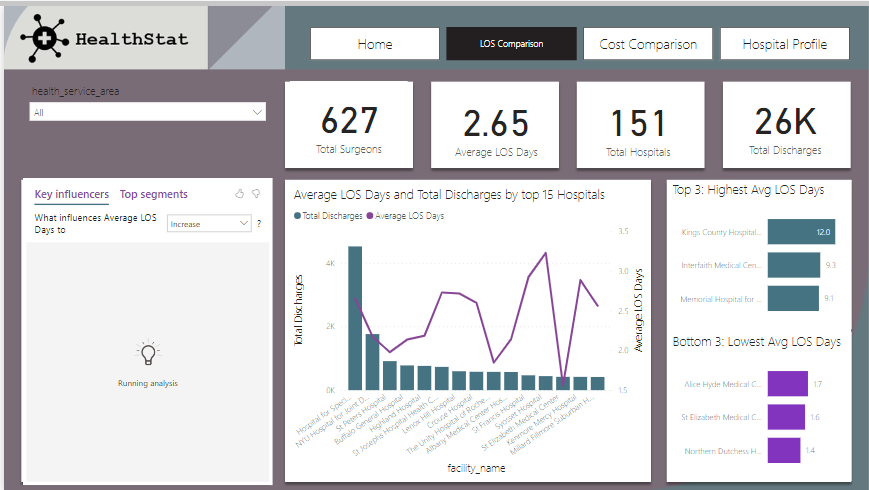

This screenshot's page, from the dashboard's own definition file:
{"tool":"powerbi","page":{"name":"LOS Comparison","canvas":[1280,720],"ordinal":1},"visuals":[{"type":"card","fields":{"Values":["_Measures.Total Surgeons"]},"box":[422.6,111.1,174.3,123.5],"z":0},{"type":"lineStackedColumnComboChart","title":"Average LOS Days and Total Discharges by top 15 Hospitals","fields":{"Y":["_Measures.Total Discharges"],"Category":["hospital_discharges.facility_name"],"Y2":["_Measures.Average LOS Days"]},"box":[422.6,264.8,532.4,433.6],"z":1000},{"type":"slicer","fields":{"Values":["hospital_discharges.health_service_area"]},"box":[27.4,109.8,369.1,130.4],"z":2000},{"type":"keyDriversVisual","fields":{"ExplainBy":["hospital_discharges.apr_risk_of_mortality","hospital_discharges.apr_severity_of_illness_description","hospital_discharges.ccs_diagnosis_description","hospital_discharges.patient_disposition","hospital_discharges.gender","hospital_discharges.Age Bins","surgical_program_size_summary.Surgical Program Size","hospital_discharges.health_service_area"],"Target":["_Measures.Average LOS Days"]},"box":[27.4,253.9,369.1,454.2],"z":3000},{"type":"clusteredBarChart","title":"Top 3: Highest Avg LOS Days","fields":{"Category":["hospital_discharges.facility_name"],"Y":["_Measures.Average LOS Days"]},"box":[982.7,257,270.1,220.5],"z":4000},{"type":"clusteredBarChart","title":"Bottom 3: Lowest Avg LOS Days","fields":{"Category":["hospital_discharges.facility_name"],"Y":["_Measures.Average LOS Days"]},"box":[982.7,481.9,270.1,220.5],"z":5000},{"type":"card","fields":{"Values":["_Measures.Average LOS Days"]},"box":[639.6,115.4,175.2,124.1],"z":6000},{"type":"card","fields":{"Values":["_Measures.Total Hospitals"]},"box":[849.8,115.4,175.2,124.1],"z":7000},{"type":"card","fields":{"Values":["_Measures.Total Discharges"]},"box":[1067.4,112.4,175.2,124.1],"z":8000},{"type":"pageNavigator","box":[452.1,31.4,800,49.9],"z":9000}]}

Visuals, with their boxes in screenshot pixels (x1, y1, x2, y2), scaled from the page's 1280x720 canvas onto the 869x490 screenshot:
card - _Measures.Total Surgeons: {"x1": 287, "y1": 76, "x2": 405, "y2": 160}
"Average LOS Days and Total Discharges by top 15 Hospitals" lineStackedColumnComboChart: {"x1": 287, "y1": 180, "x2": 648, "y2": 475}
slicer - hospital_discharges.health_service_area: {"x1": 19, "y1": 75, "x2": 269, "y2": 163}
keyDriversVisual - hospital_discharges.apr_risk_of_mortality x hospital_discharges.apr_severity_of_illness_description: {"x1": 19, "y1": 173, "x2": 269, "y2": 482}
"Top 3: Highest Avg LOS Days" clusteredBarChart: {"x1": 667, "y1": 175, "x2": 851, "y2": 325}
"Bottom 3: Lowest Avg LOS Days" clusteredBarChart: {"x1": 667, "y1": 328, "x2": 851, "y2": 478}
card - _Measures.Average LOS Days: {"x1": 434, "y1": 79, "x2": 553, "y2": 163}
card - _Measures.Total Hospitals: {"x1": 577, "y1": 79, "x2": 696, "y2": 163}
card - _Measures.Total Discharges: {"x1": 725, "y1": 76, "x2": 844, "y2": 161}
pageNavigator: {"x1": 307, "y1": 21, "x2": 850, "y2": 55}
